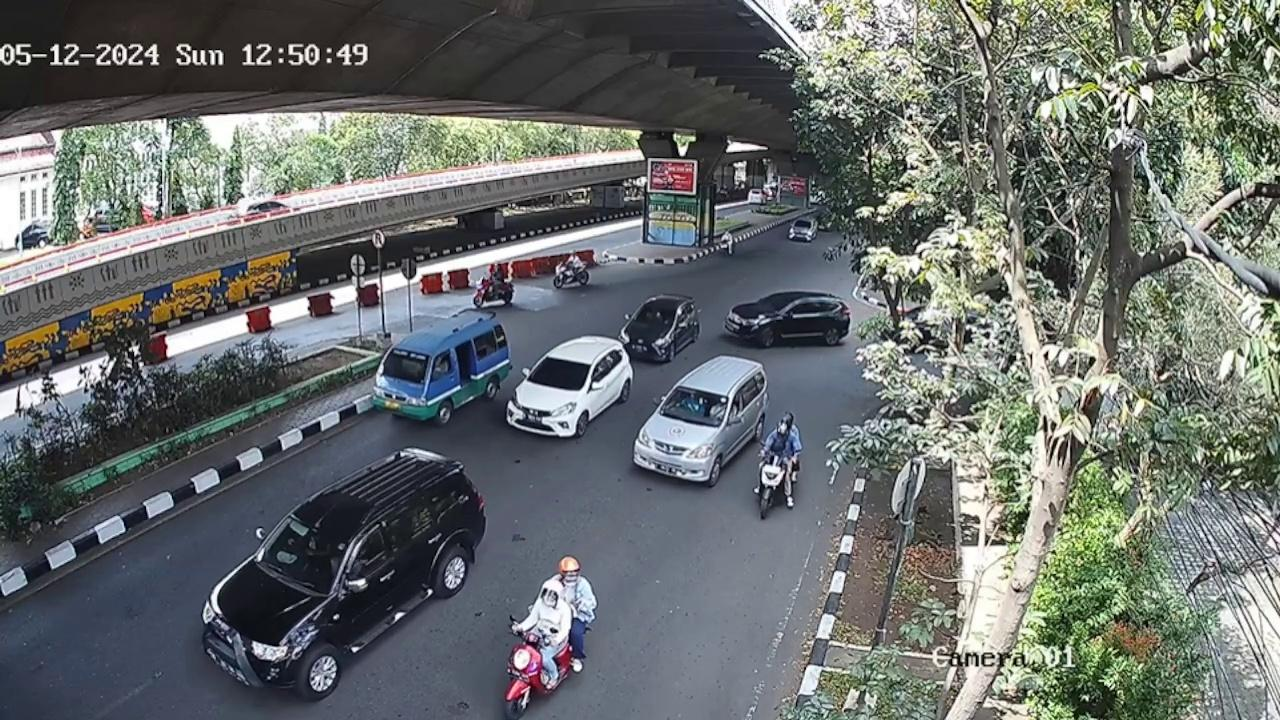pakai: (677, 393, 703, 417), (710, 400, 729, 421)
windshield: (253, 519, 354, 584), (659, 388, 732, 427), (376, 343, 432, 385), (529, 359, 594, 391)
